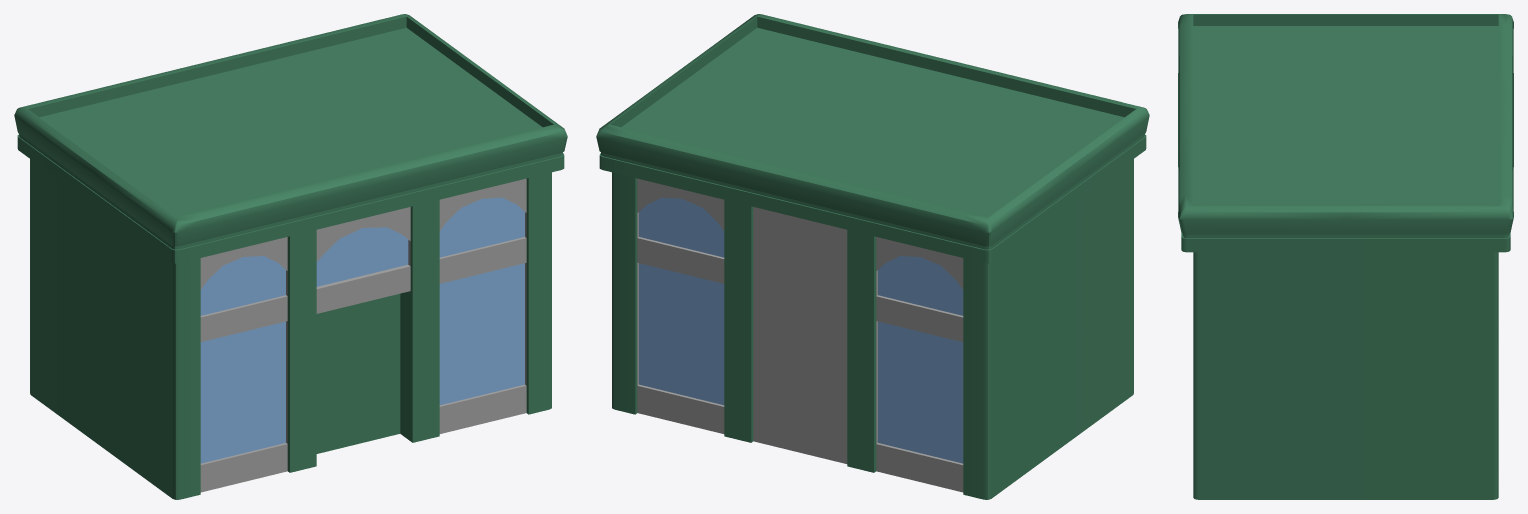
3 views of the same model, side by side, from view 1: azimuth 30°, elevation 25°; view 2: azimuth 150°, elevation 25°; view 3: azimuth 270°, elevation 25° (orthographic). The views are drawn at different scales.
Visible parts, largest first — view 1: polySurface14; view 2: polySurface14; view 3: polySurface14.
Part boxes in pixels (bbox=[...]): polySurface14: bbox=[14, 14, 567, 499]; polySurface14: bbox=[596, 14, 1149, 499]; polySurface14: bbox=[1178, 14, 1513, 499].
Bounding box in the file's own units: 1690 × 1158 × 1199.
